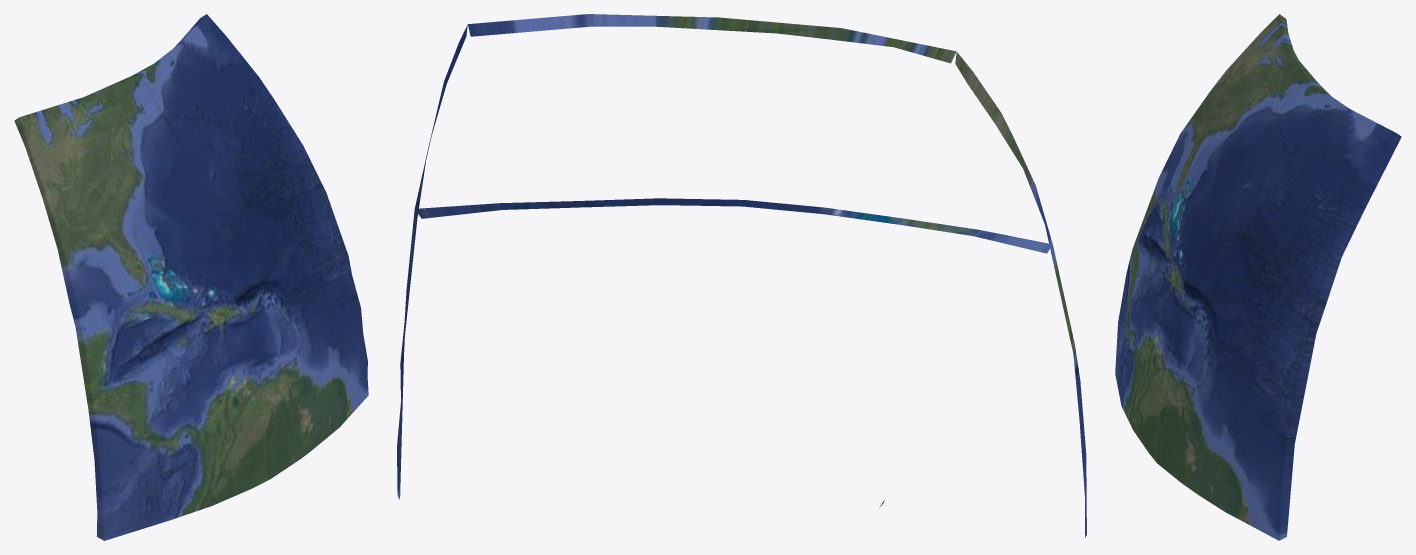
3 renders of one model, left to right at view 1: azimuth 30°, elevation 25°; view 2: azimuth 150°, elevation 25°; view 3: azimuth 270°, elevation 25°, orthographic. The views are drawn at different scales.
Size of the model in its own units: 4586328 by 4568213 by 3276000.
1 material, 1 textured.
